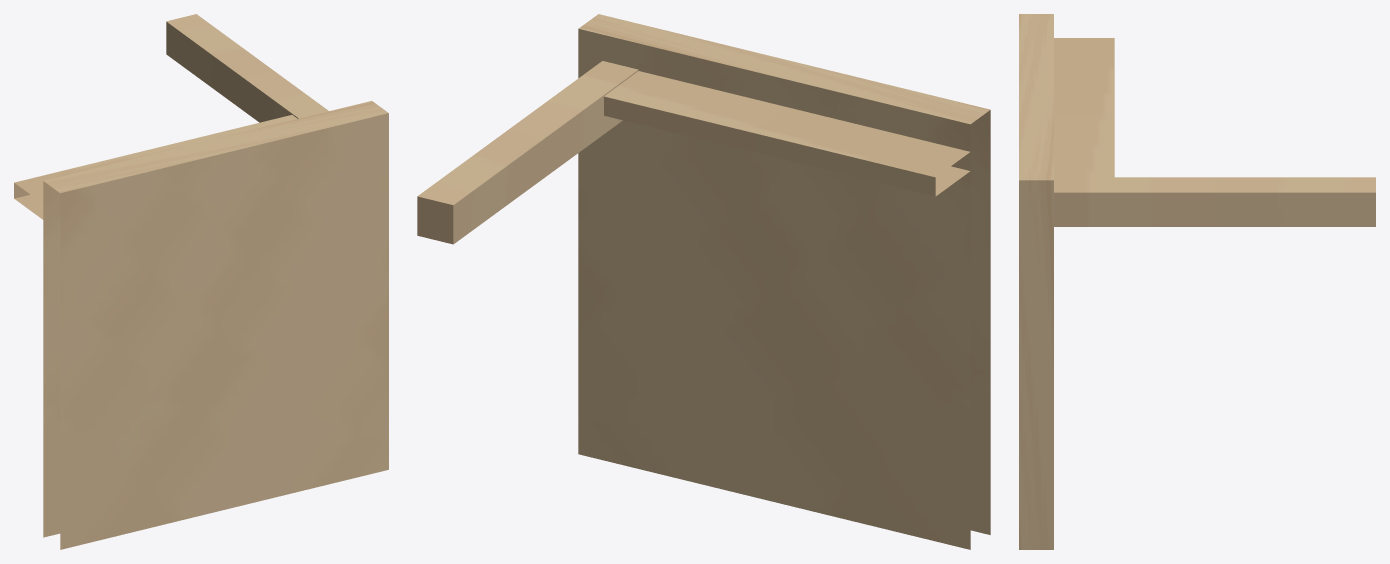
Rendered from pz_table_tables_high_02_large_light_1_1.obj.
3 views of the same model, side by side, from view 1: azimuth 30°, elevation 25°; view 2: azimuth 150°, elevation 25°; view 3: azimuth 270°, elevation 25° (orthographic). The views are drawn at different scales.
Size of the model in its own units: 0.8438 by 0.875 by 0.7655.
1 material, 1 textured.
